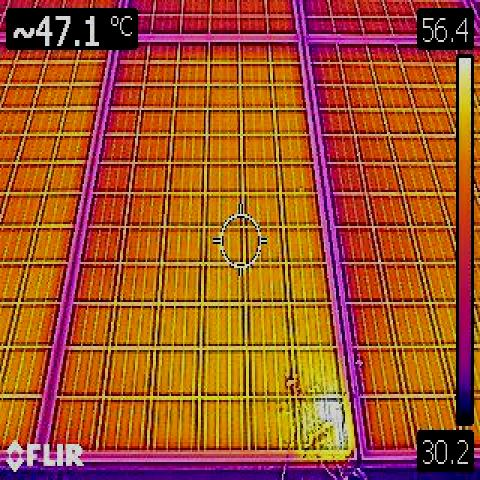fault: (310, 393, 347, 430)
